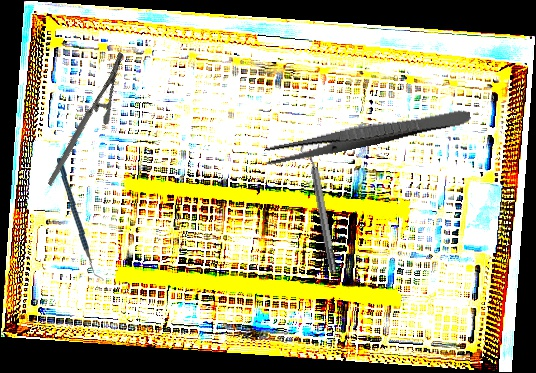Chopper: (52, 158, 109, 281)
Dressing Forceps: (262, 102, 472, 168)
Fixation Ring: (299, 139, 343, 276)
Needle Holder: (13, 50, 157, 187)
